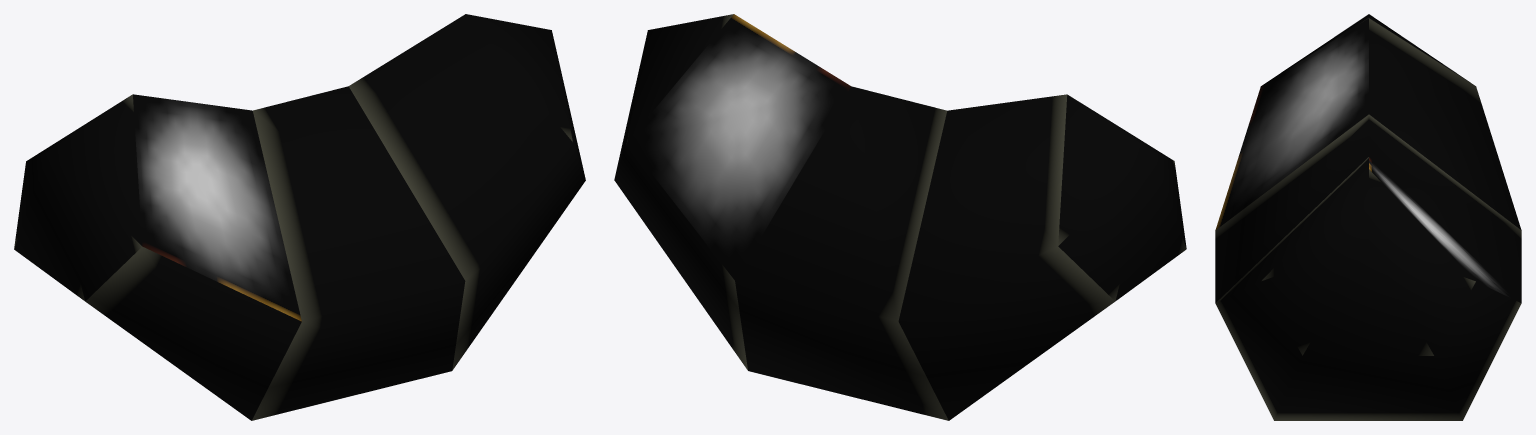
The picture shows the model from 3 angles, left to right: view 1: azimuth 30°, elevation 25°; view 2: azimuth 150°, elevation 25°; view 3: azimuth 270°, elevation 25°; orthographic projection. The views are drawn at different scales.
Parts seen in each view (by area): view 1: T1L2M001_18; view 2: T1L2M001_18; view 3: T1L2M001_18.
Boxes of the visible parts, x1,y1,x2,y2 form: T1L2M001_18: (14,14,585,420); T1L2M001_18: (614,14,1186,420); T1L2M001_18: (1215,14,1521,420).
Bounding box in the file's own units: 0.5547 × 0.3213 × 0.3154.
